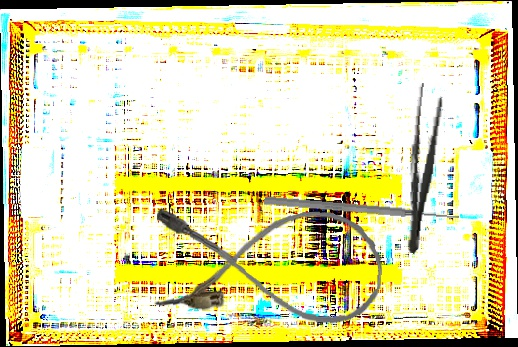Cannula: (150, 200, 386, 327)
Dressing Forceps: (399, 81, 446, 256)
Pusher: (263, 194, 460, 224)
